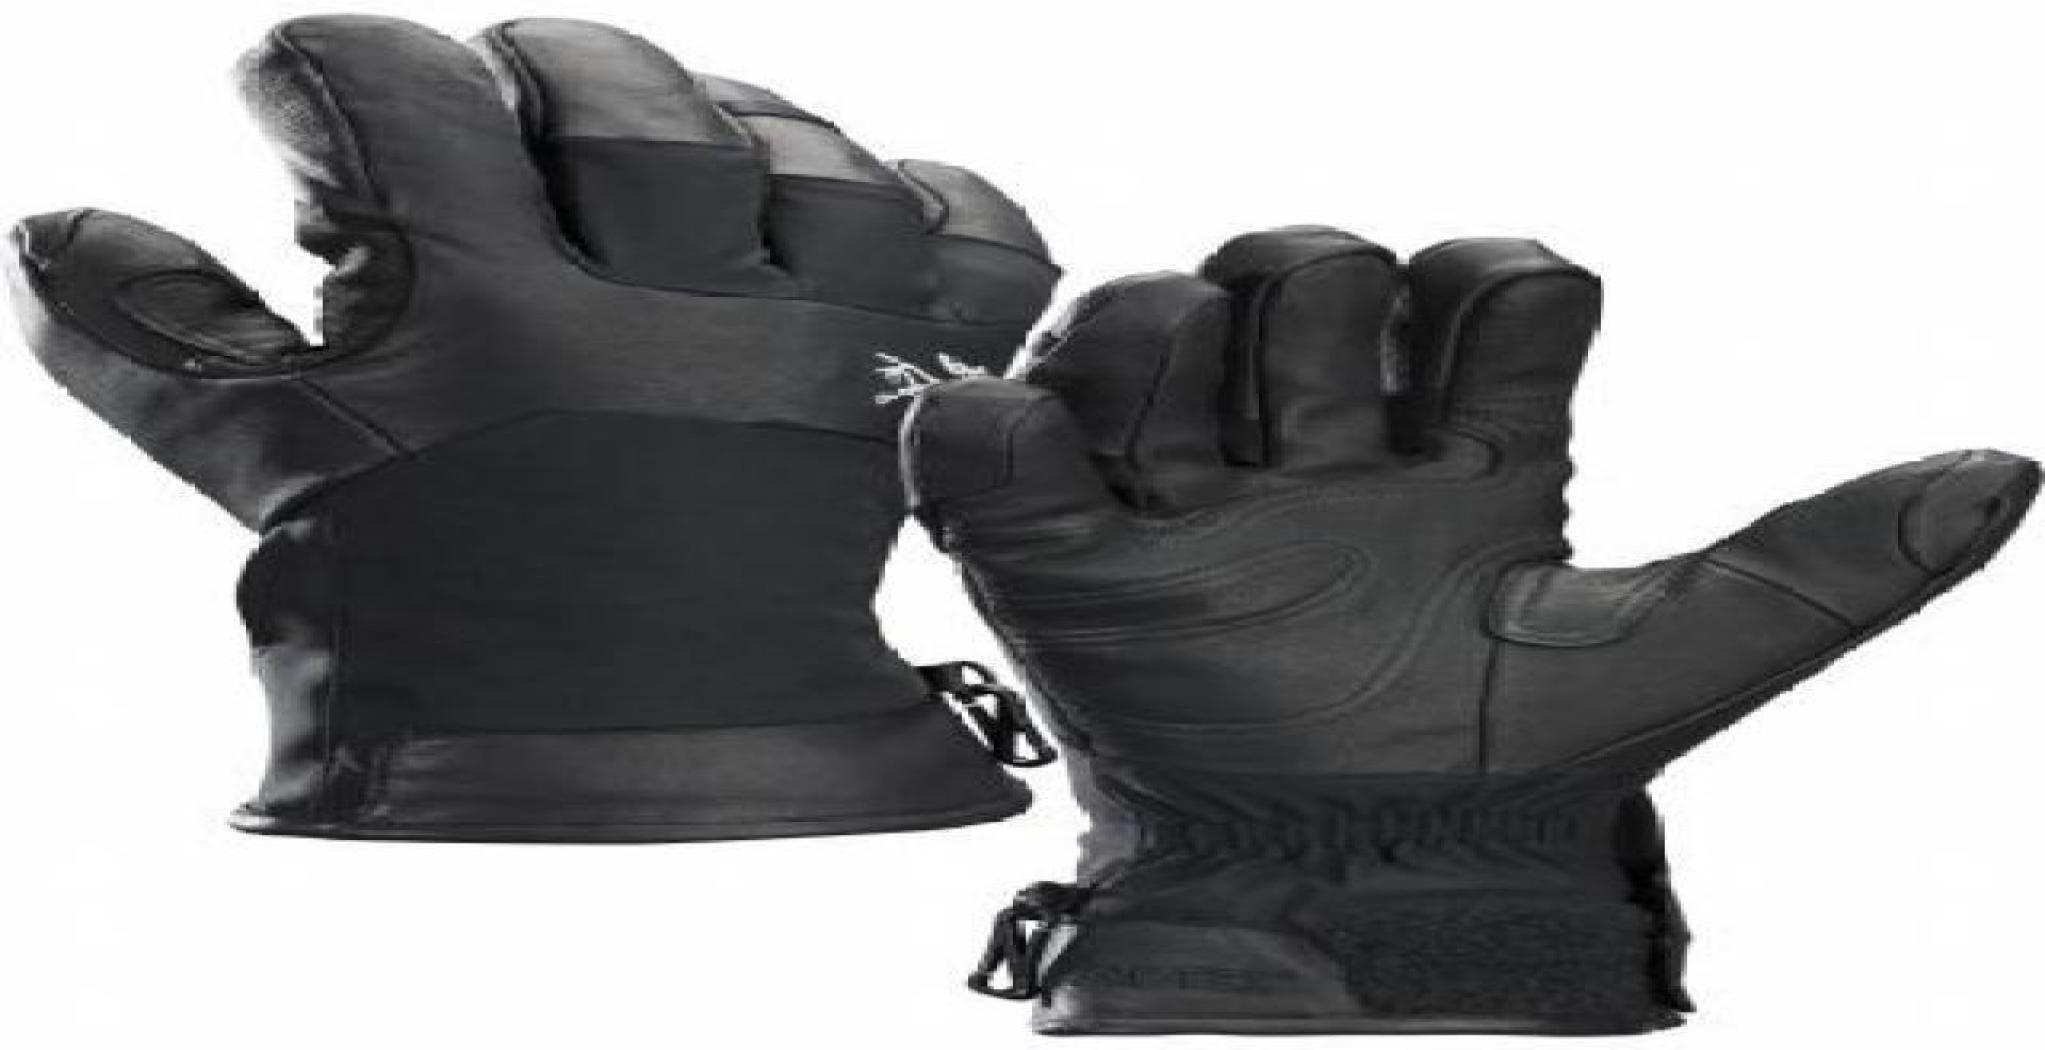gloved: (885, 221, 2042, 1037), (3, 9, 1067, 844)
